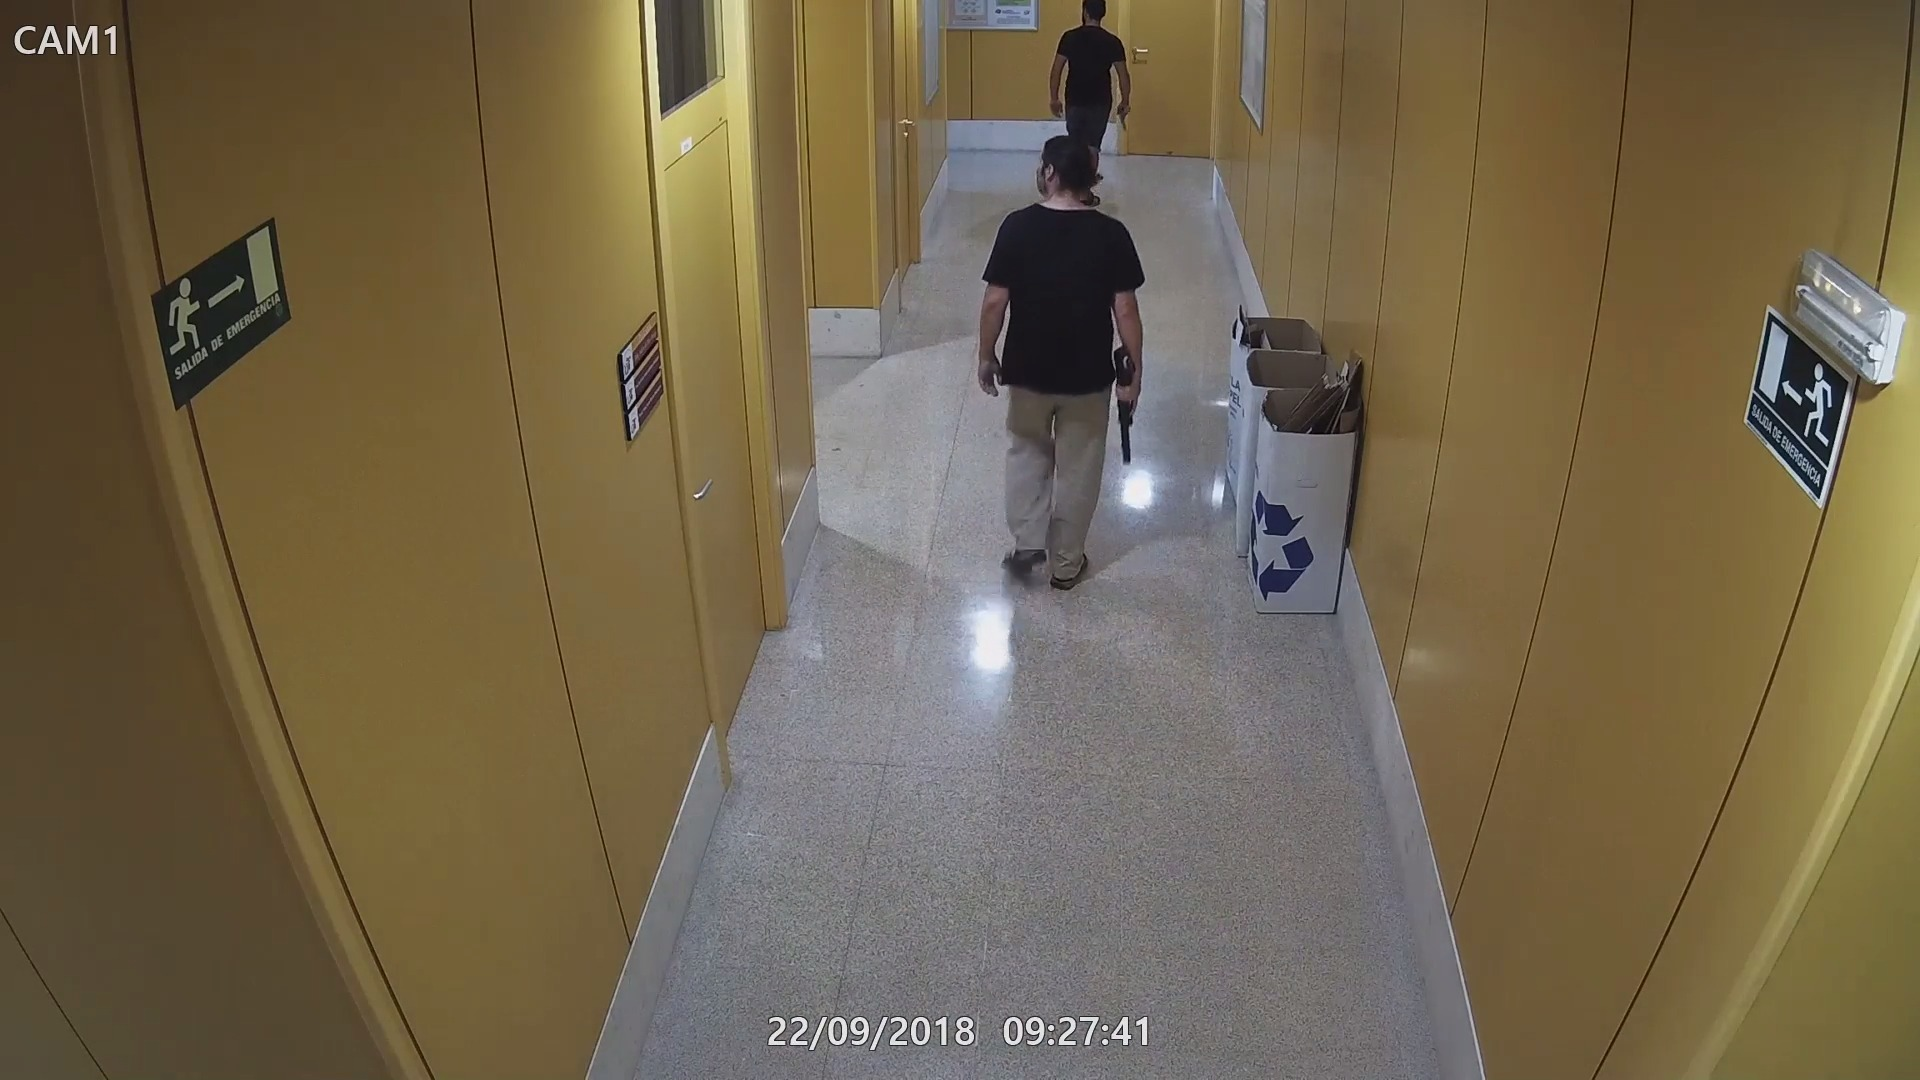pistol: (1112, 96, 1137, 132)
rifle: (1113, 339, 1139, 467)
